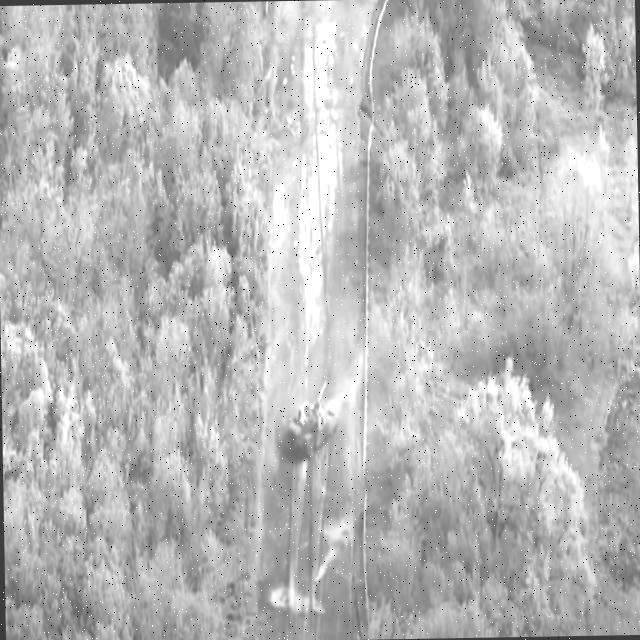MBT: (286, 379, 340, 461)
